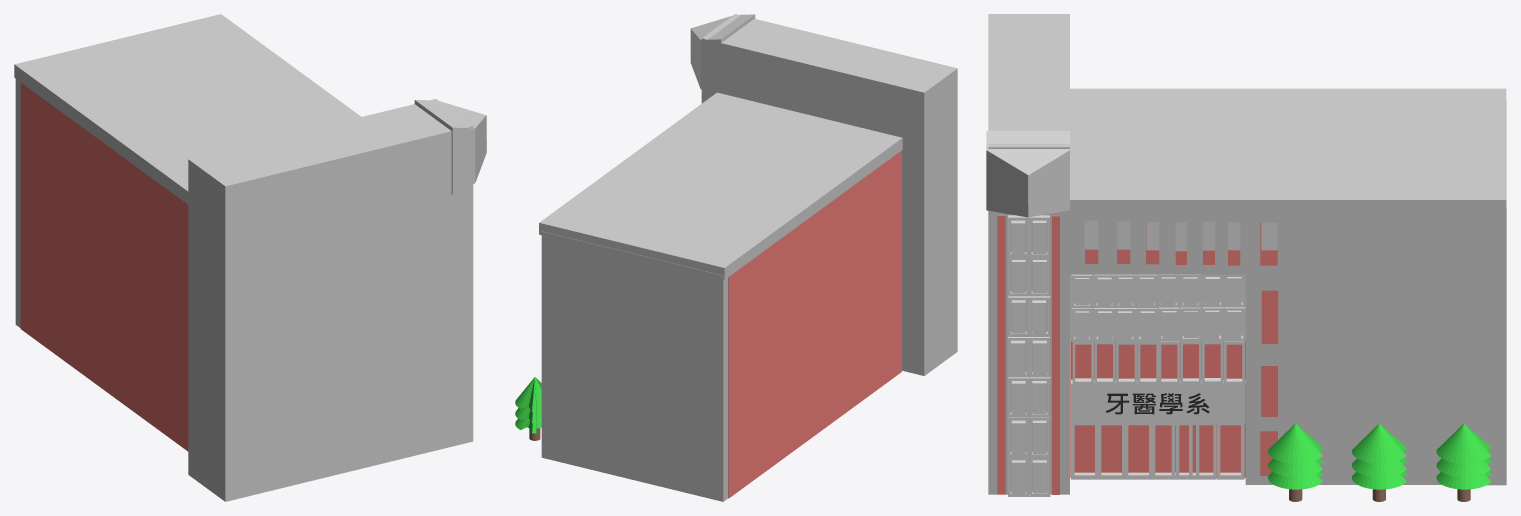
Rendered from 牙醫系.fbx.
3 views of the same model, side by side, from view 1: azimuth 30°, elevation 25°; view 2: azimuth 150°, elevation 25°; view 3: azimuth 270°, elevation 25° (orthographic). The views are drawn at different scales.
Visible parts, largest first — view 1: 立方體.001, 立方體, 立方體.004; view 2: 立方體.004, 立方體, 立方體.001, 圓柱體.002; view 3: 立方體.004, 立方體.001, 立方體, 立方體.075, 圓柱體.002, 圓柱體, 圓柱體.001, 立方體.019, 立方體.018, 立方體.041, 立方體.082, 文字 (+4 smaller).
Boxes of the visible parts, box(x1,y1,x2,y2) form: 立方體.001: box(188, 99, 486, 501); 立方體: box(20, 82, 188, 451); 立方體.004: box(14, 14, 361, 327); 立方體.004: box(539, 92, 902, 501); 立方體: box(728, 150, 901, 498); 立方體.001: box(690, 14, 957, 375); 圓柱體.002: box(515, 377, 541, 440); 立方體.004: box(1070, 88, 1506, 485); 立方體.001: box(986, 14, 1069, 494); 立方體: box(1070, 222, 1278, 477); 立方體.075: box(1071, 379, 1245, 423); 圓柱體.002: box(1436, 423, 1491, 501); 圓柱體: box(1268, 423, 1323, 501); 圓柱體.001: box(1352, 423, 1407, 501); 立方體.019: box(997, 215, 1005, 494); 立方體.018: box(1052, 215, 1059, 494); 立方體.041: box(1070, 265, 1245, 341); 立方體.082: box(1151, 423, 1216, 479); 文字: box(1106, 393, 1209, 414).
Bounding box in the file's own units: 1056 × 1160 × 1548.
